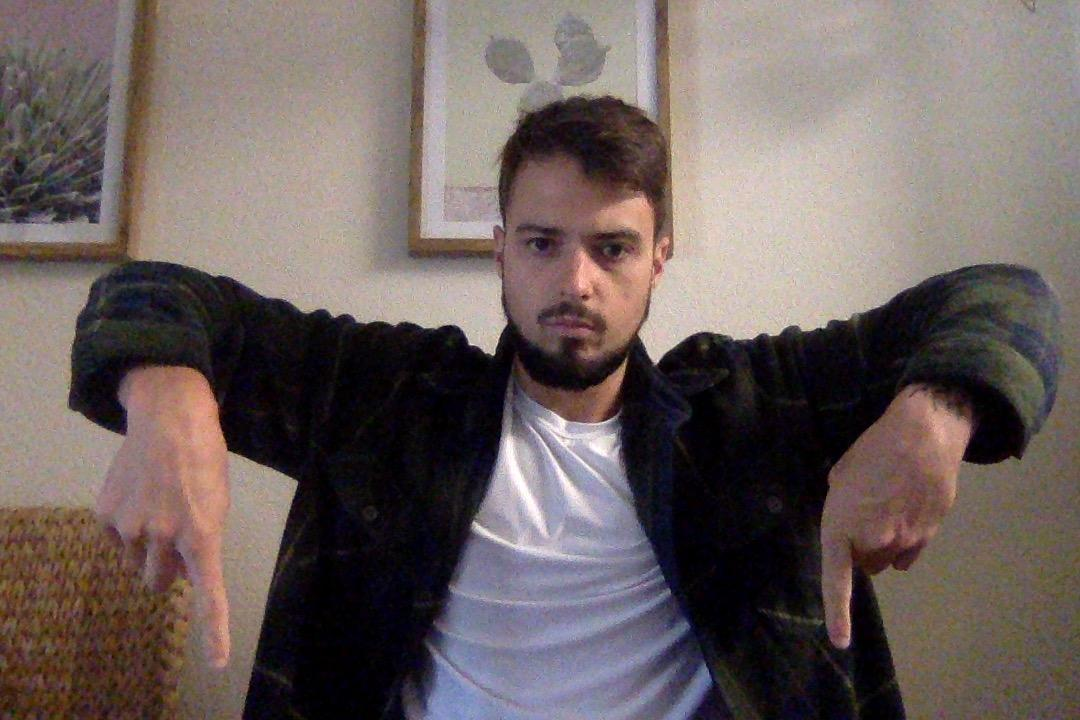Point-Down: (85, 377, 241, 682), (814, 385, 973, 660)
